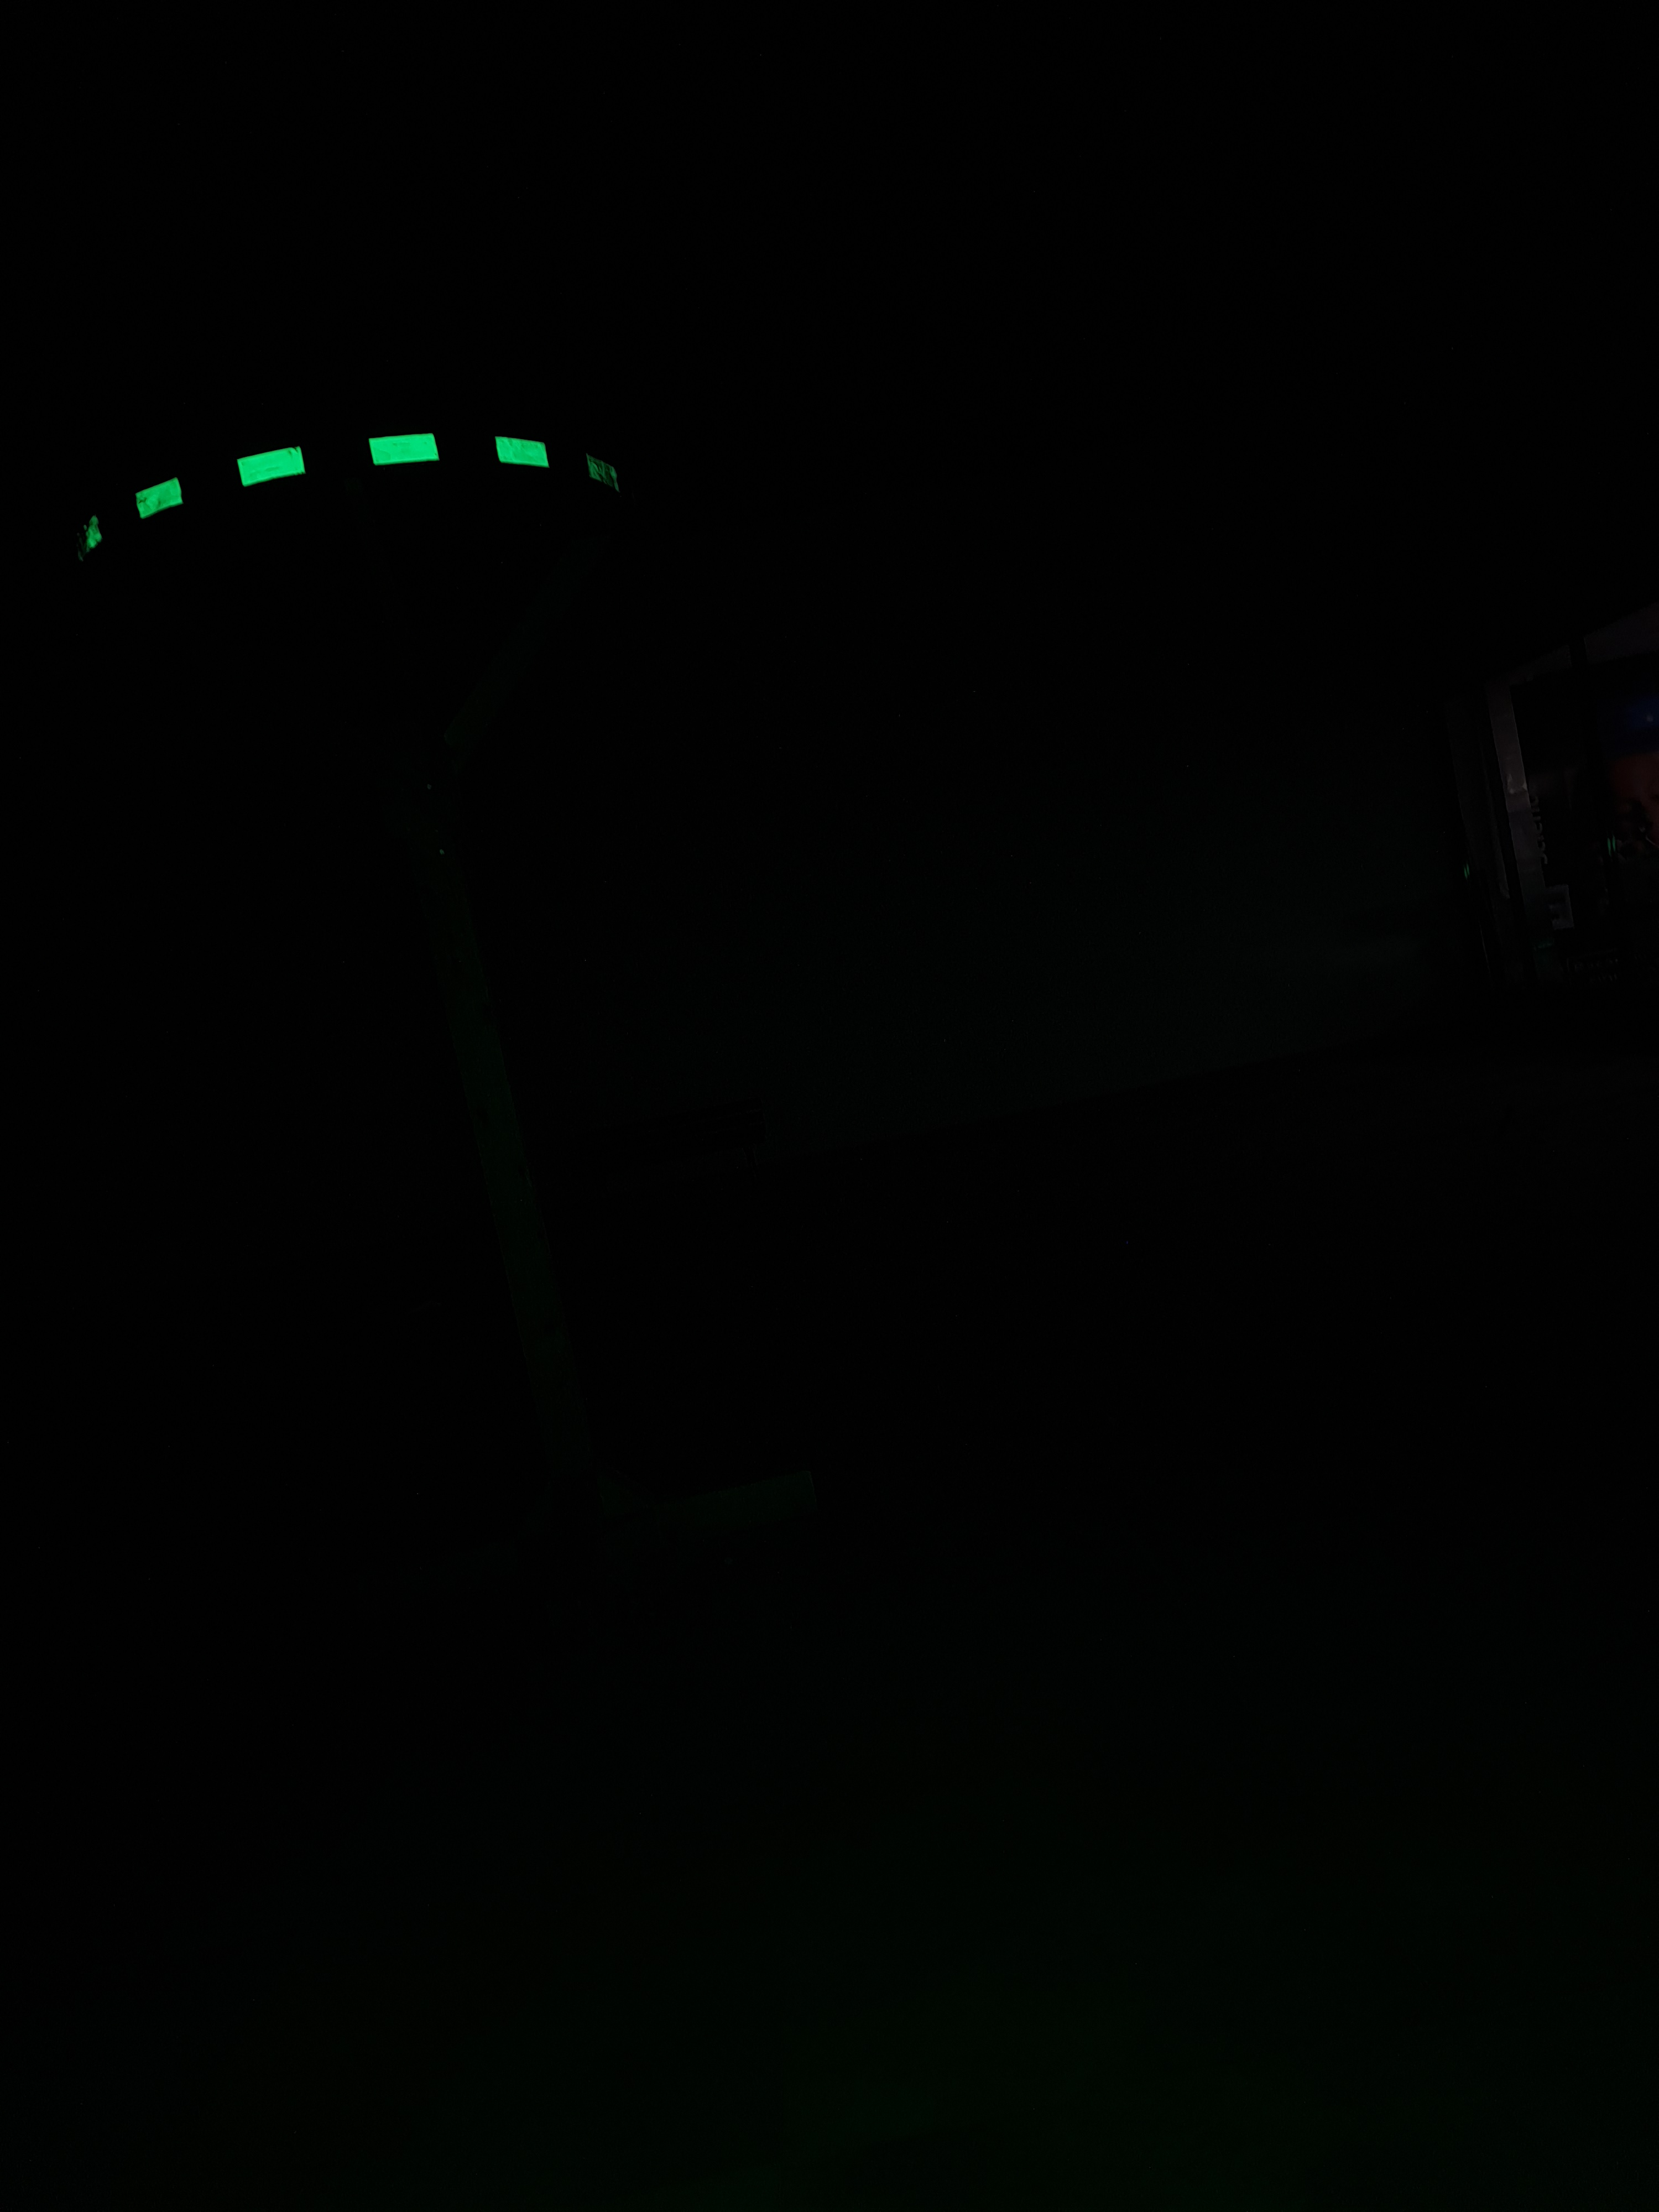hoop: (68, 418, 629, 564)
